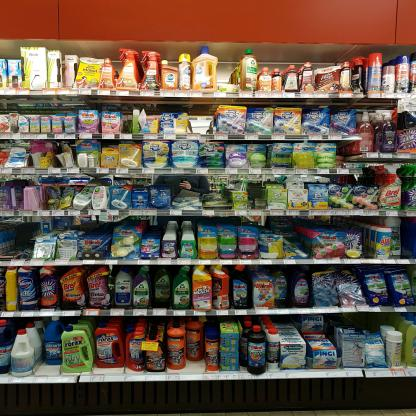Void: (14, 220, 30, 250), (248, 180, 266, 198), (40, 364, 57, 376), (190, 362, 203, 374)
